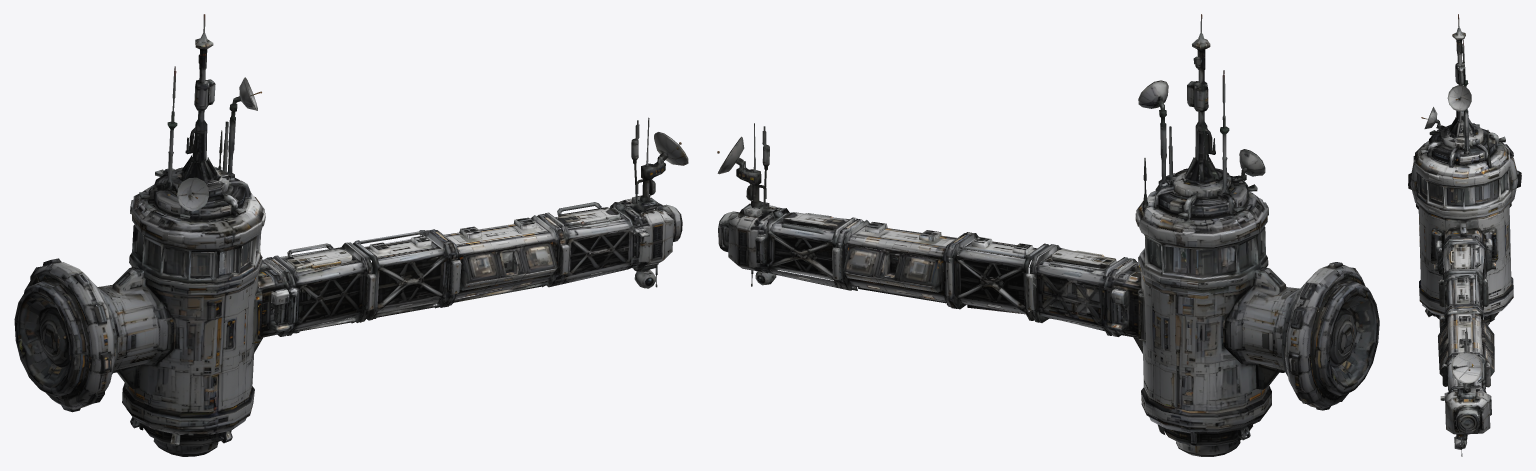
Rendered from arm1.glb.
3 views of the same model, side by side, from view 1: azimuth 30°, elevation 25°; view 2: azimuth 150°, elevation 25°; view 3: azimuth 270°, elevation 25° (orthographic). The views are drawn at different scales.
Visible parts, largest first — view 1: tripo_9880497d_4507_4423_aee1_940f2b74b10e; view 2: tripo_9880497d_4507_4423_aee1_940f2b74b10e; view 3: tripo_9880497d_4507_4423_aee1_940f2b74b10e.
Part boxes in pixels (box(x1,y1,x2,y2)): tripo_9880497d_4507_4423_aee1_940f2b74b10e: box(14, 14, 688, 456); tripo_9880497d_4507_4423_aee1_940f2b74b10e: box(717, 14, 1379, 456); tripo_9880497d_4507_4423_aee1_940f2b74b10e: box(1408, 14, 1521, 456).
Size of the model in its own units: 0.9995 by 0.6421 by 0.2095.
Materials: 1 (1 with a texture image).
